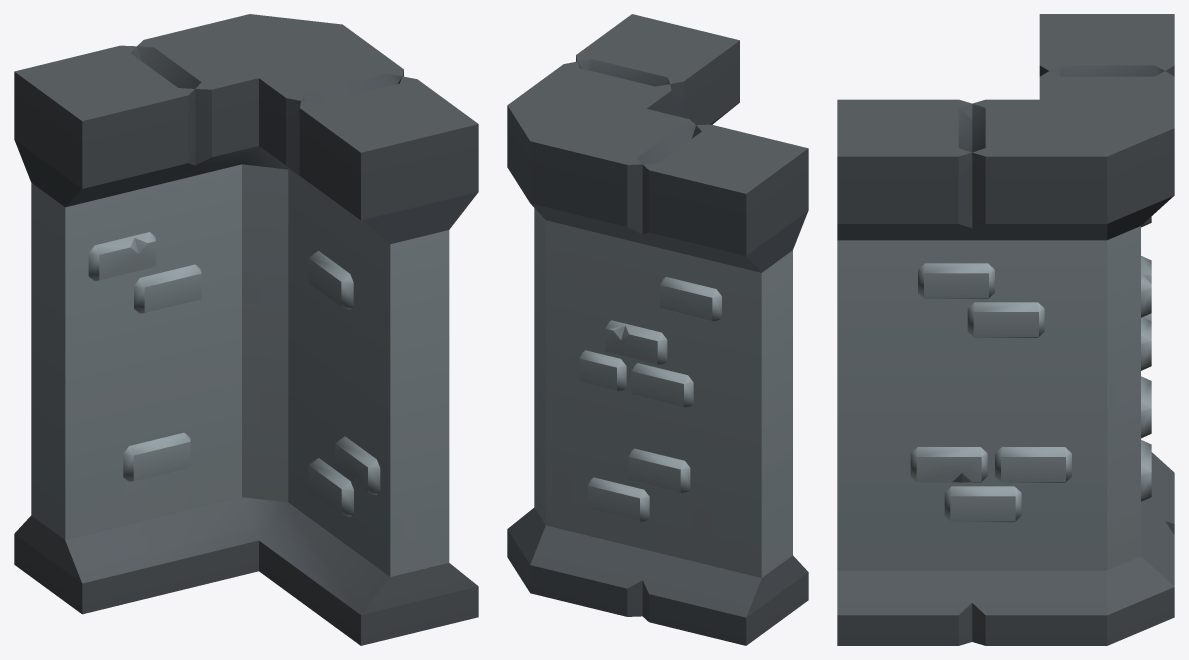
The model's file is wall-corner-gltf.glb.
The picture shows the model from 3 angles, left to right: view 1: azimuth 30°, elevation 25°; view 2: azimuth 150°, elevation 25°; view 3: azimuth 270°, elevation 25°; orthographic projection. The views are drawn at different scales.
Visible parts, largest first — view 1: wall_corner; view 2: wall_corner; view 3: wall_corner.
Boxes of the visible parts, bbox=[...] form: wall_corner: bbox=[14, 14, 478, 645]; wall_corner: bbox=[507, 14, 808, 645]; wall_corner: bbox=[837, 14, 1174, 645].
Size of the model in its own units: 2.5 by 4 by 2.5.
1 material, 1 textured.
